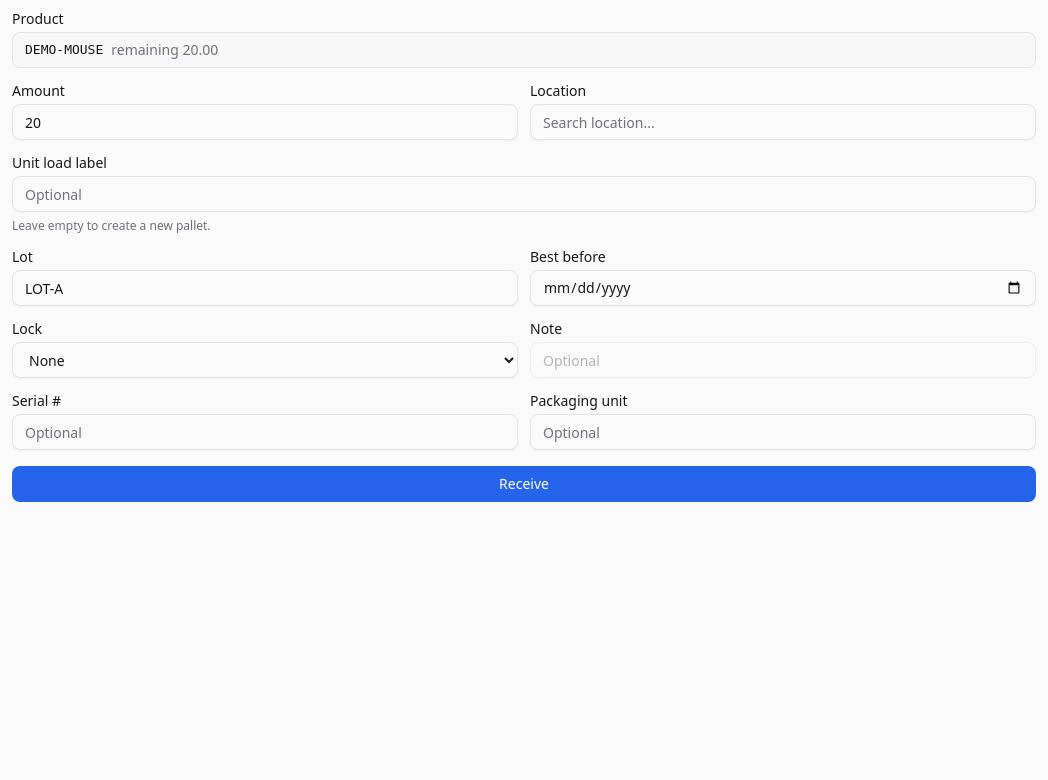
Test: ReceiveForm › cancels the over-receipt confirm without retrying
In the dropdown with placeholder "Search location...": (783, 122) x1=530 y1=104 x2=1036 y2=140, type "RCV"
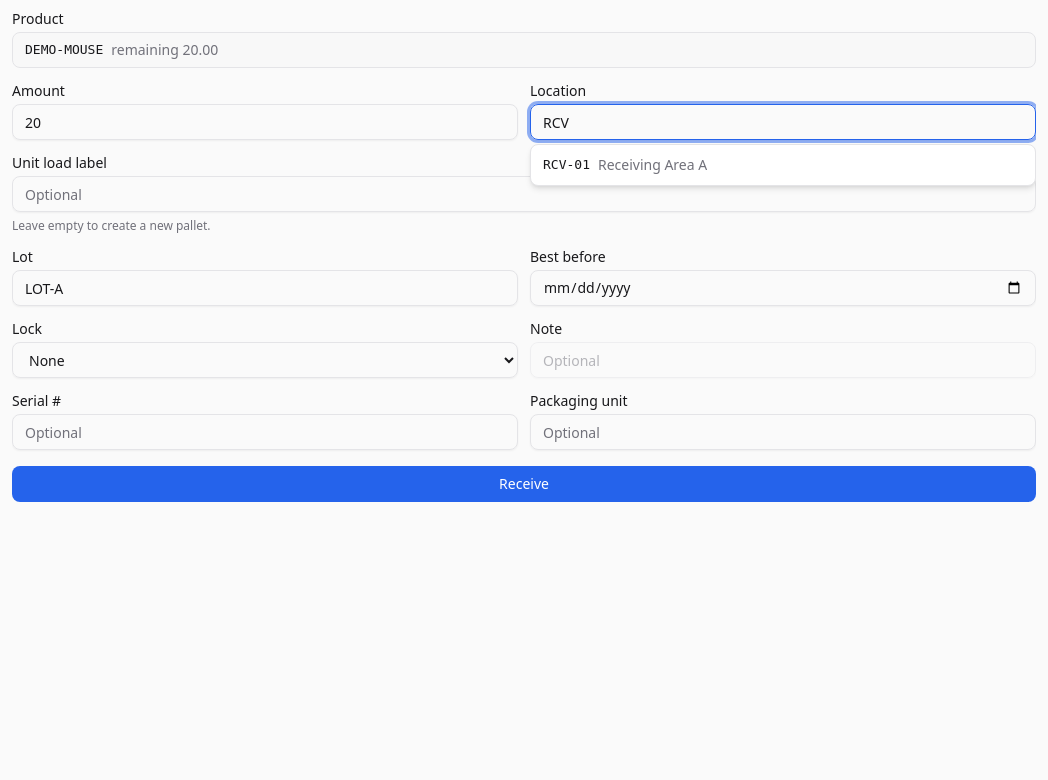
Click the option "RCV-01 Receiving Area A": (566, 164) x1=535 y1=149 x2=1031 y2=181
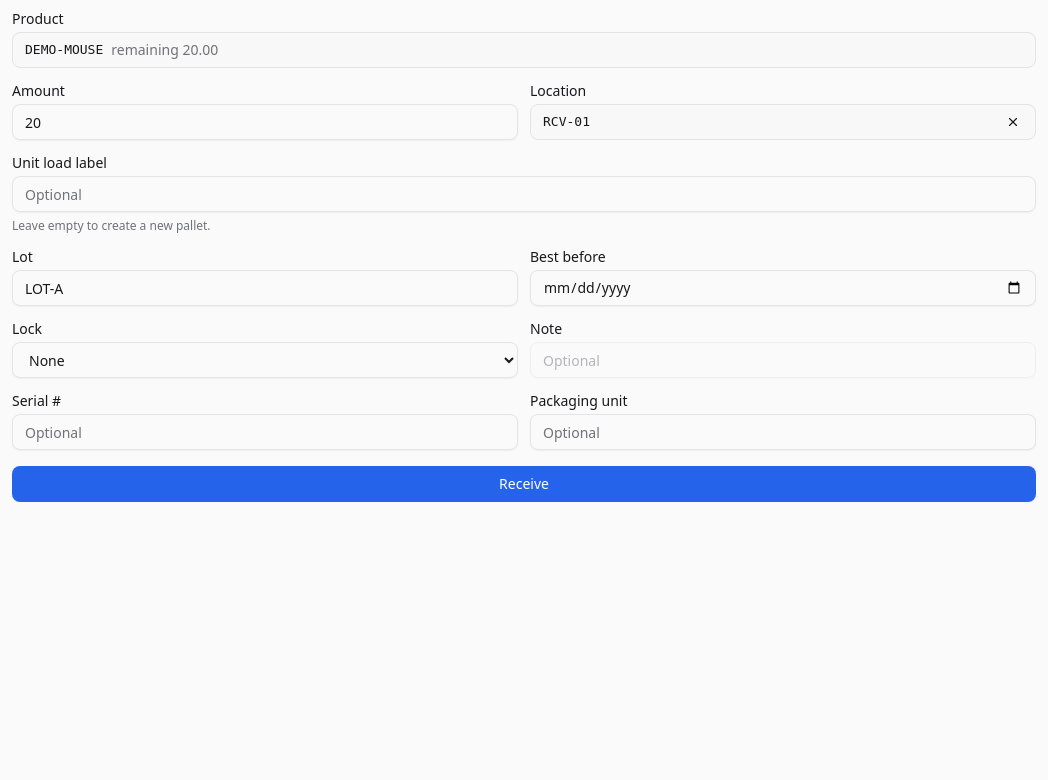
Replace the text in the number field with test id "receive-amount" with "40": (265, 122) x1=12 y1=104 x2=518 y2=140
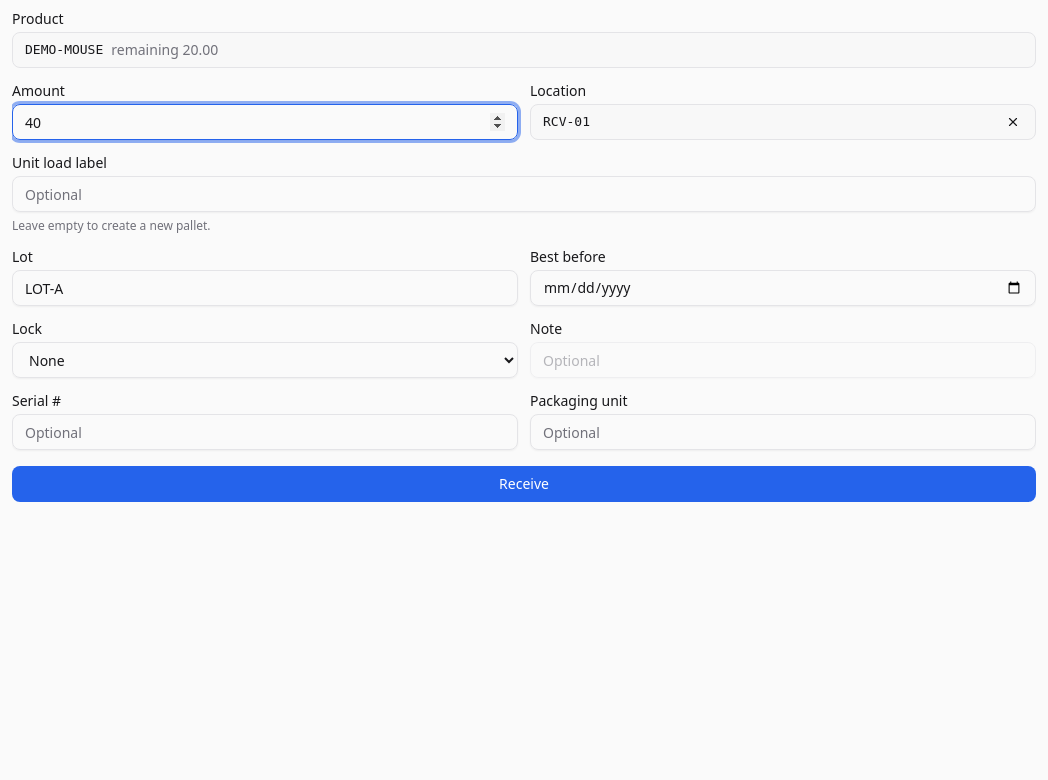
Click the button with test id "receive-submit": (524, 484) x1=12 y1=466 x2=1036 y2=502
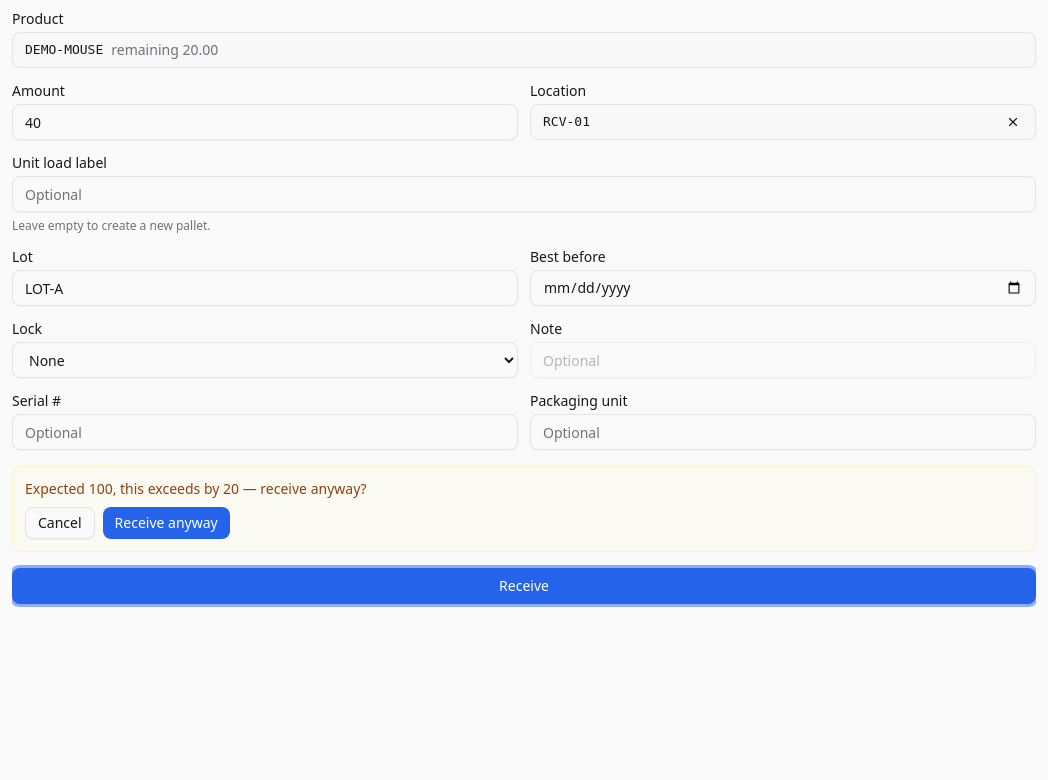
Result: the element with test id "over-receipt-confirm" is shown at x1=12 y1=466 x2=1036 y2=552
Click the button with test id "over-receipt-cancel": (60, 523) x1=25 y1=507 x2=95 y2=539
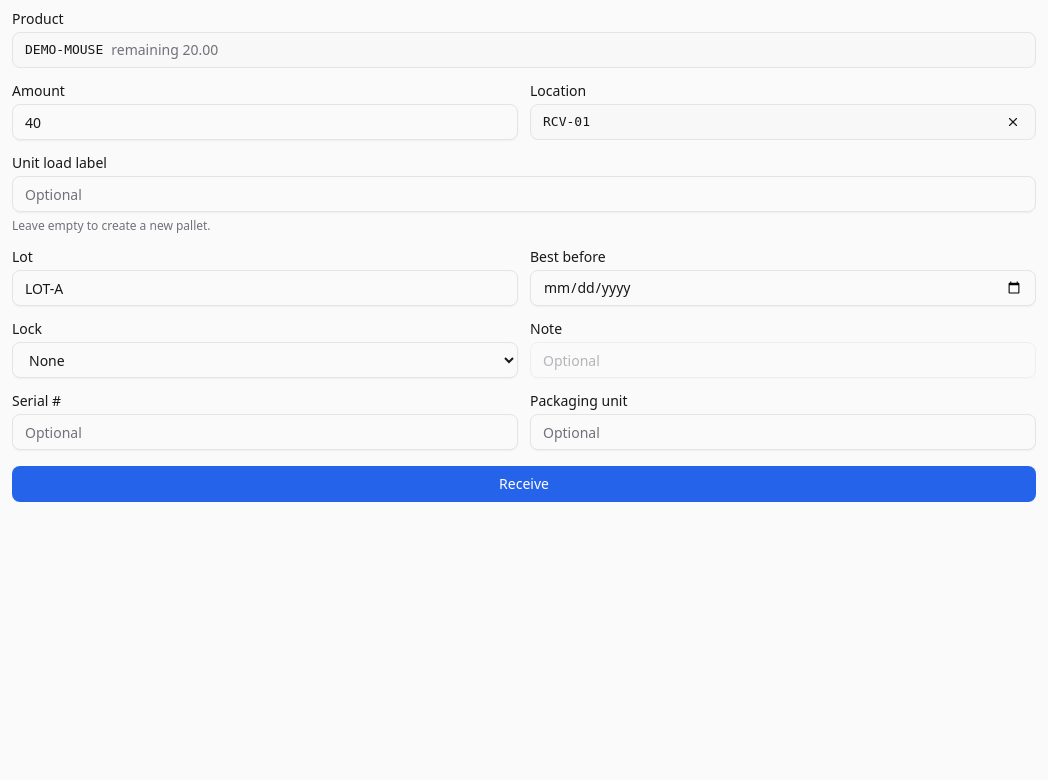
Result: the element with test id "over-receipt-confirm" is gone
